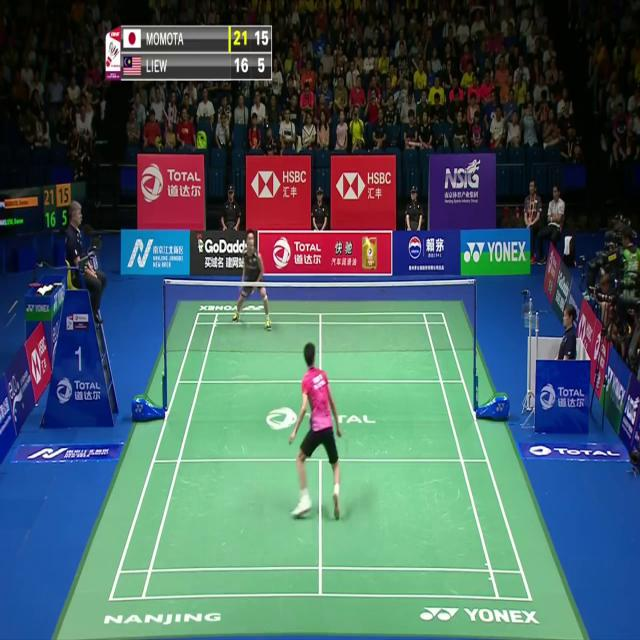Shuttlecock: (365, 236, 371, 248)
